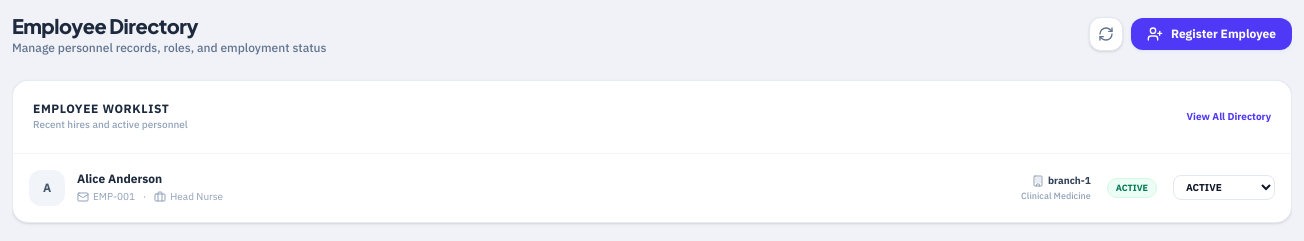
it: EmployeesPage — employee status-toggle (live wire) › disables the status select while the PATCH is in flight (no double-submit)
Select "SUSPENDED" in the dropdown with test id "employees-status-select-emp-1" at (1224, 188), box left=1173, top=176, right=1275, bottom=200
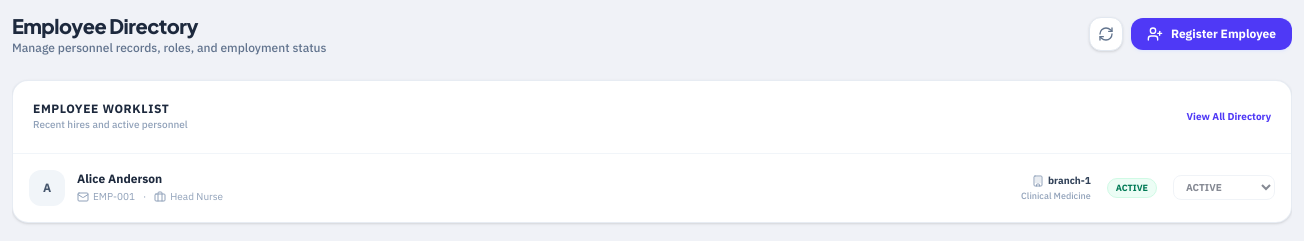
Check: the dropdown with test id "employees-status-select-emp-1" is disabled, box left=1173, top=176, right=1275, bottom=200
